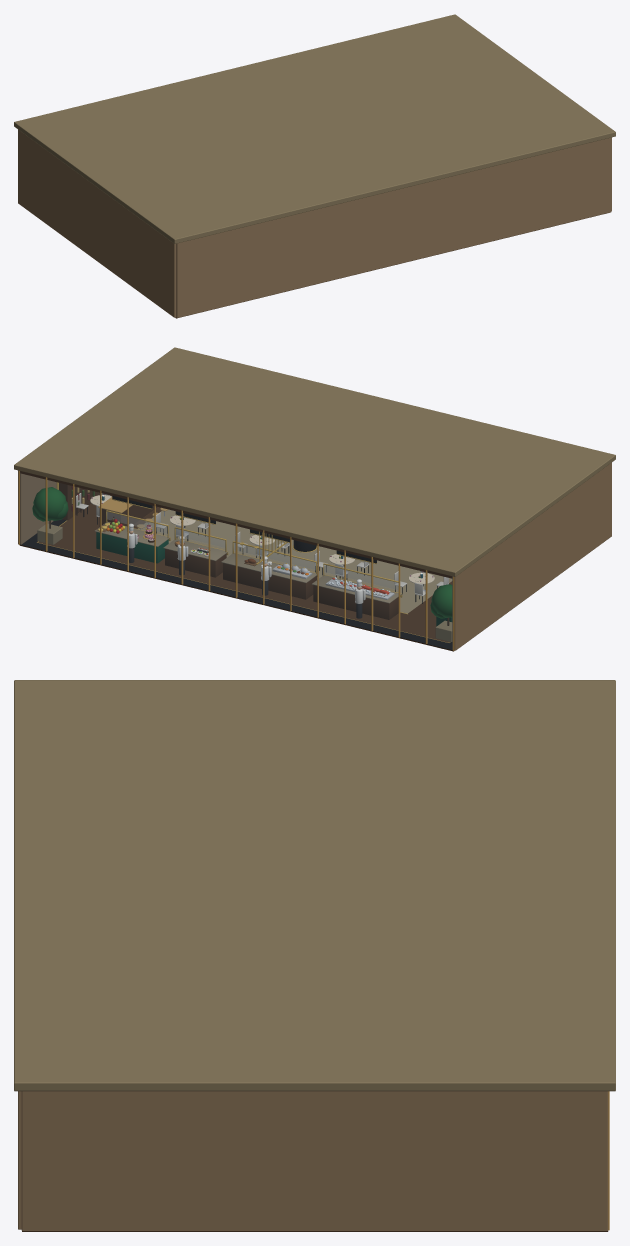
The model's file is room_restaurant.glb.
3 renders of one model, top to bottom at view 1: azimuth 30°, elevation 25°; view 2: azimuth 150°, elevation 25°; view 3: azimuth 270°, elevation 25°, orthographic. The views are drawn at different scales.
Visible parts, largest first — view 1: Pub2_Restaurant_stone, Pub2_Restaurant_wallp; view 2: Pub2_Restaurant_stone, Pub2_Restaurant_gclear, Pub2_Restaurant_wallp, Pub2_Restaurant_flr2, Pub2_Restaurant_rug1, RsF_LuxFlutedWalnut, Pub2_Restaurant_brass, RsX_LuxMarbleBlack, RsF_LuxMarbleWhite, RsF_LuxGlass, Pub2_Restaurant_leaf, RsF_LuxGold (+9 smaller); view 3: Pub2_Restaurant_stone, Pub2_Restaurant_wallp.
Boxes of the visible parts, x1,y1,x2,y2 form: Pub2_Restaurant_stone: (14,14,615,243); Pub2_Restaurant_wallp: (18,129,611,317); Pub2_Restaurant_stone: (14,347,615,641); Pub2_Restaurant_gclear: (21,473,452,649); Pub2_Restaurant_wallp: (18,462,611,650); Pub2_Restaurant_flr2: (19,495,453,651); Pub2_Restaurant_rug1: (137,509,452,613); RsF_LuxFlutedWalnut: (165,549,398,619); Pub2_Restaurant_brass: (18,470,454,650); RsX_LuxMarbleBlack: (20,519,452,650); RsF_LuxMarbleWhite: (94,522,401,603); RsF_LuxGlass: (107,512,398,589); Pub2_Restaurant_leaf: (32,487,452,618); RsF_LuxGold: (106,499,402,597); Pub2_Restaurant_stone: (14,680,615,1091); Pub2_Restaurant_wallp: (18,1091,608,1231).
Bounding box in the file's own units: 24.4 × 4.3 × 15.4.
